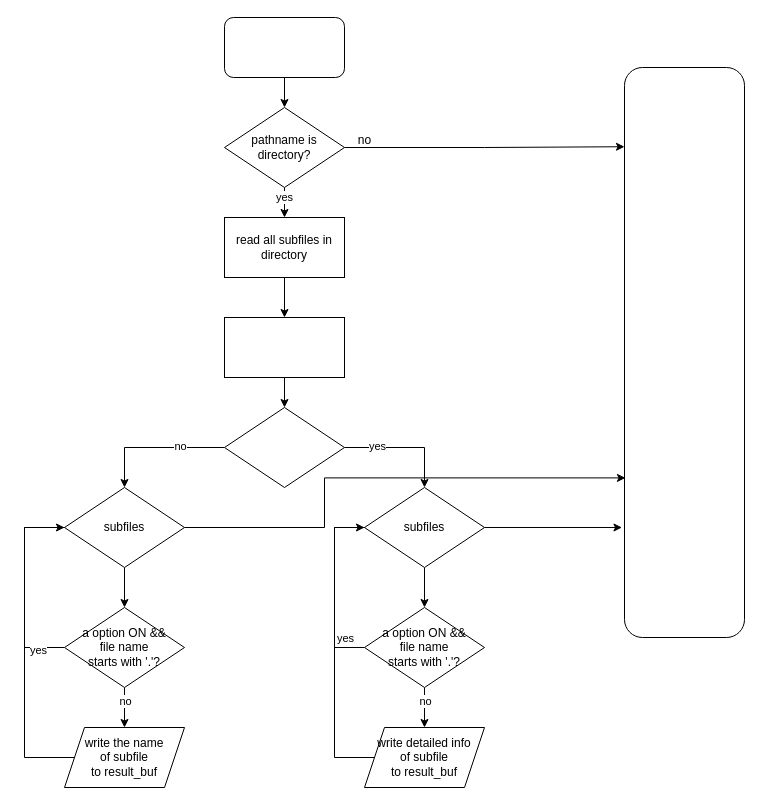
Image size: 762x805. Some labels were removed from this diagram. Each missing label, with the centre of its shape:
end: pixel 684 352
l option ON?: pixel 284 447
sort by ascii order: pixel 284 347
start: pixel 284 47
